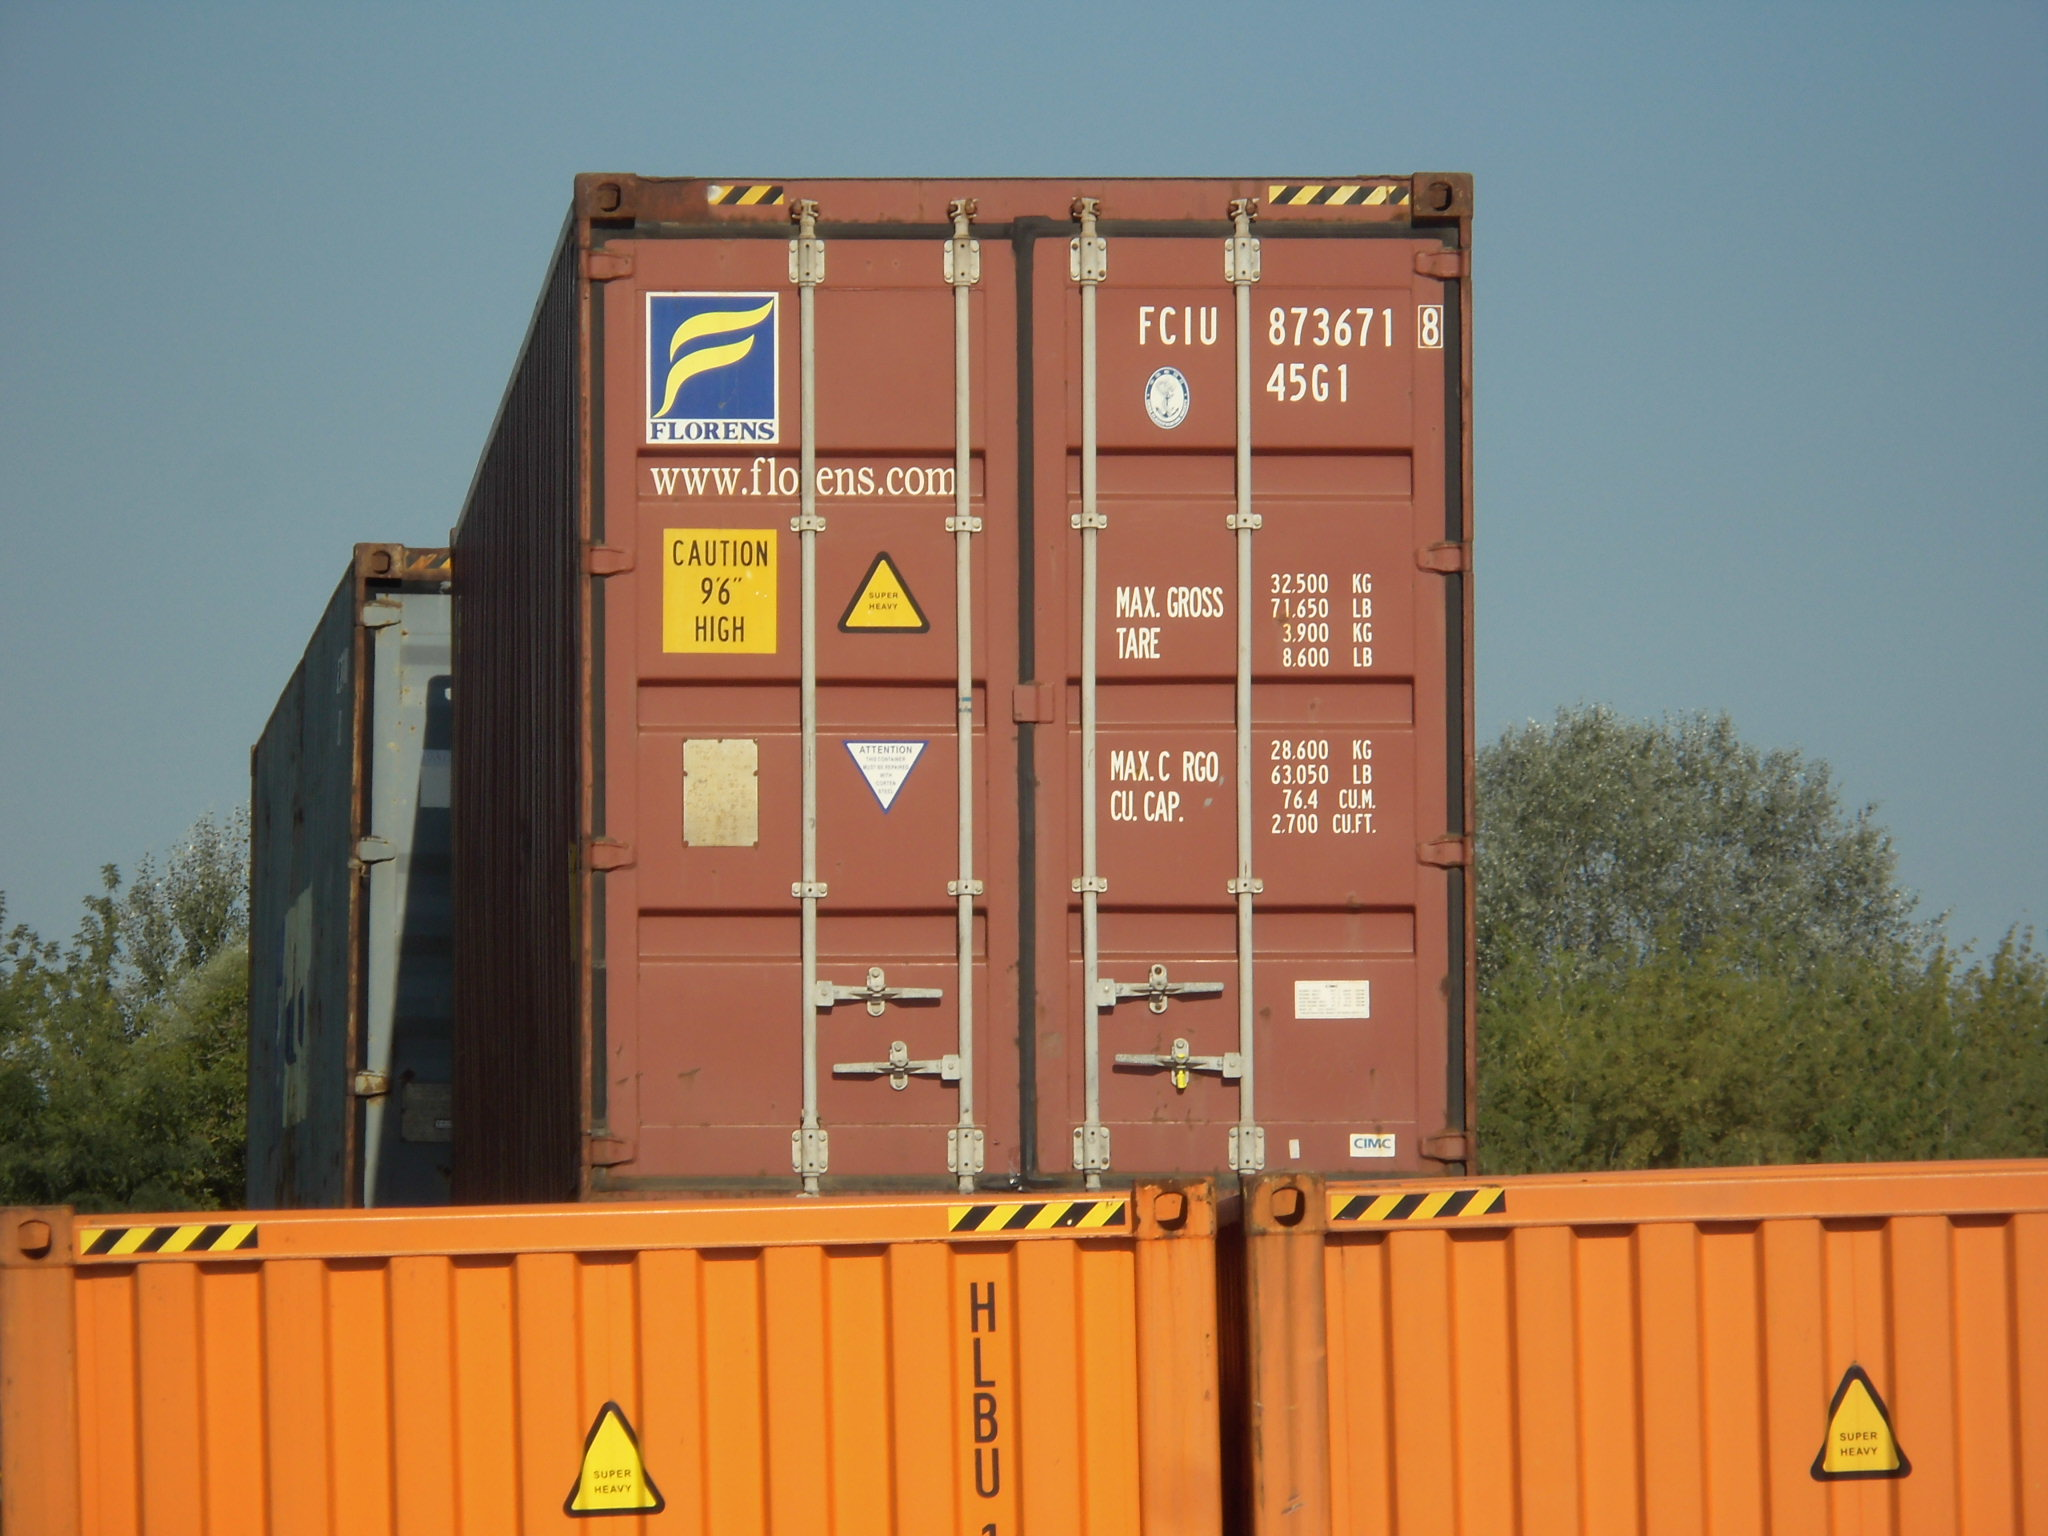container_door: (590, 186, 1472, 1179)
